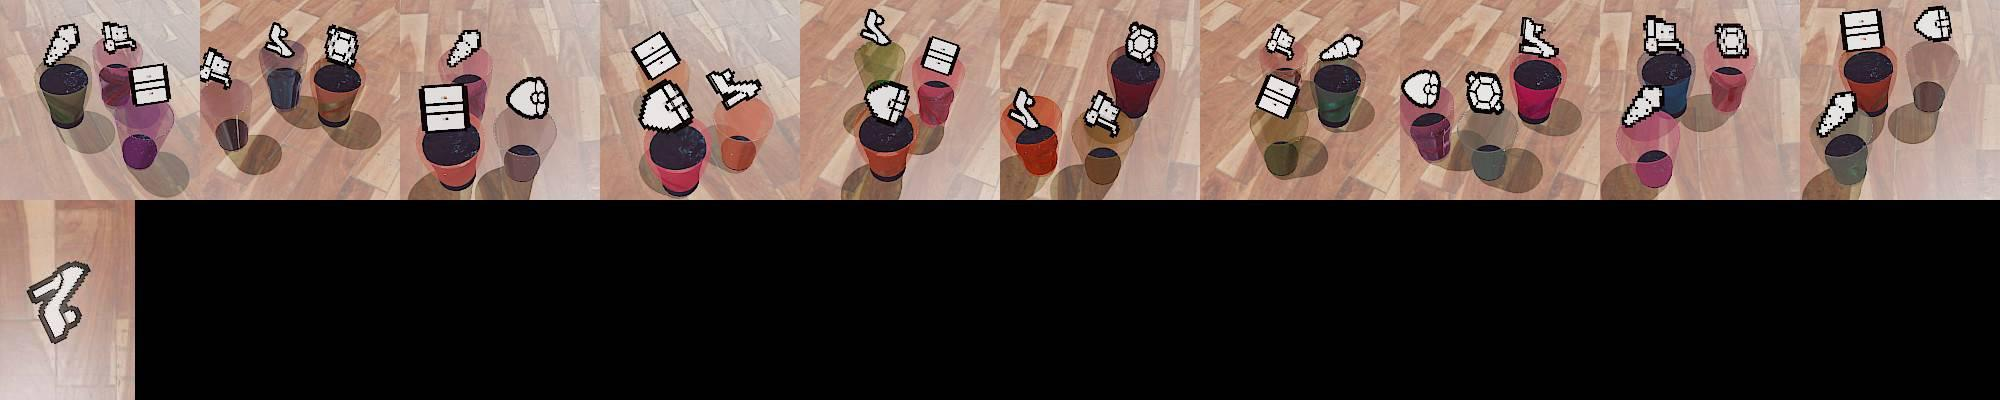icon: (25, 262, 92, 346), (635, 78, 695, 136), (631, 30, 682, 82), (419, 82, 469, 133), (706, 67, 761, 111), (863, 79, 910, 127), (1255, 71, 1298, 120), (1840, 9, 1884, 53), (506, 76, 549, 120), (1083, 87, 1122, 135), (1622, 83, 1665, 126), (130, 62, 171, 107), (1817, 90, 1857, 136), (1643, 14, 1685, 57), (1519, 16, 1559, 60), (42, 23, 79, 69), (921, 35, 961, 77), (1402, 69, 1442, 110), (1466, 71, 1505, 113), (324, 24, 360, 67), (1318, 32, 1364, 64), (1123, 22, 1158, 64), (199, 46, 233, 89), (1913, 6, 1952, 43), (445, 28, 481, 68), (1008, 86, 1039, 130), (859, 8, 893, 47), (264, 20, 297, 59), (1714, 23, 1749, 59), (101, 21, 138, 54), (1266, 23, 1295, 59)
